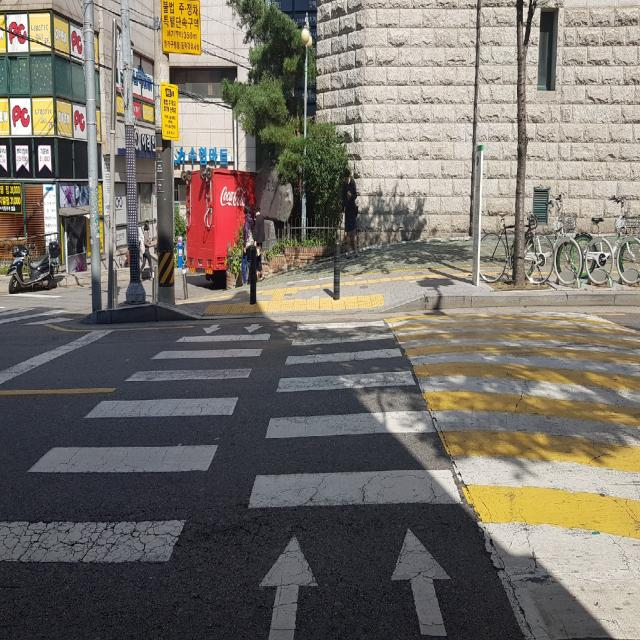횡단보도: (1, 319, 464, 640)
